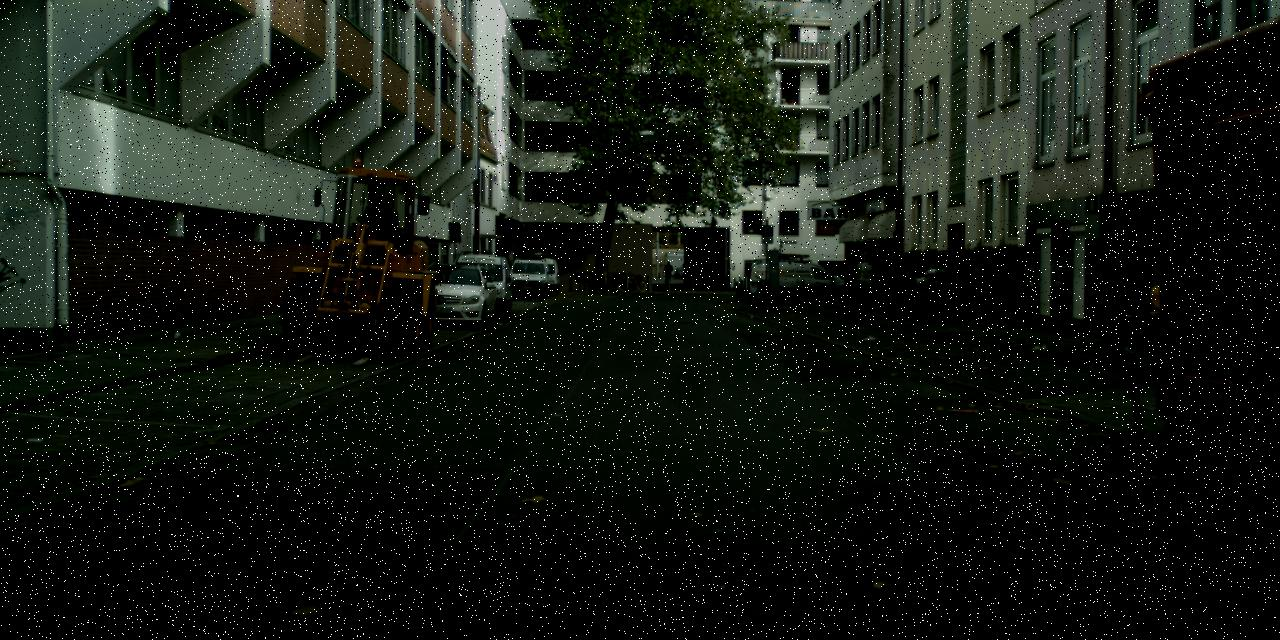ped: (662, 261, 672, 286)
